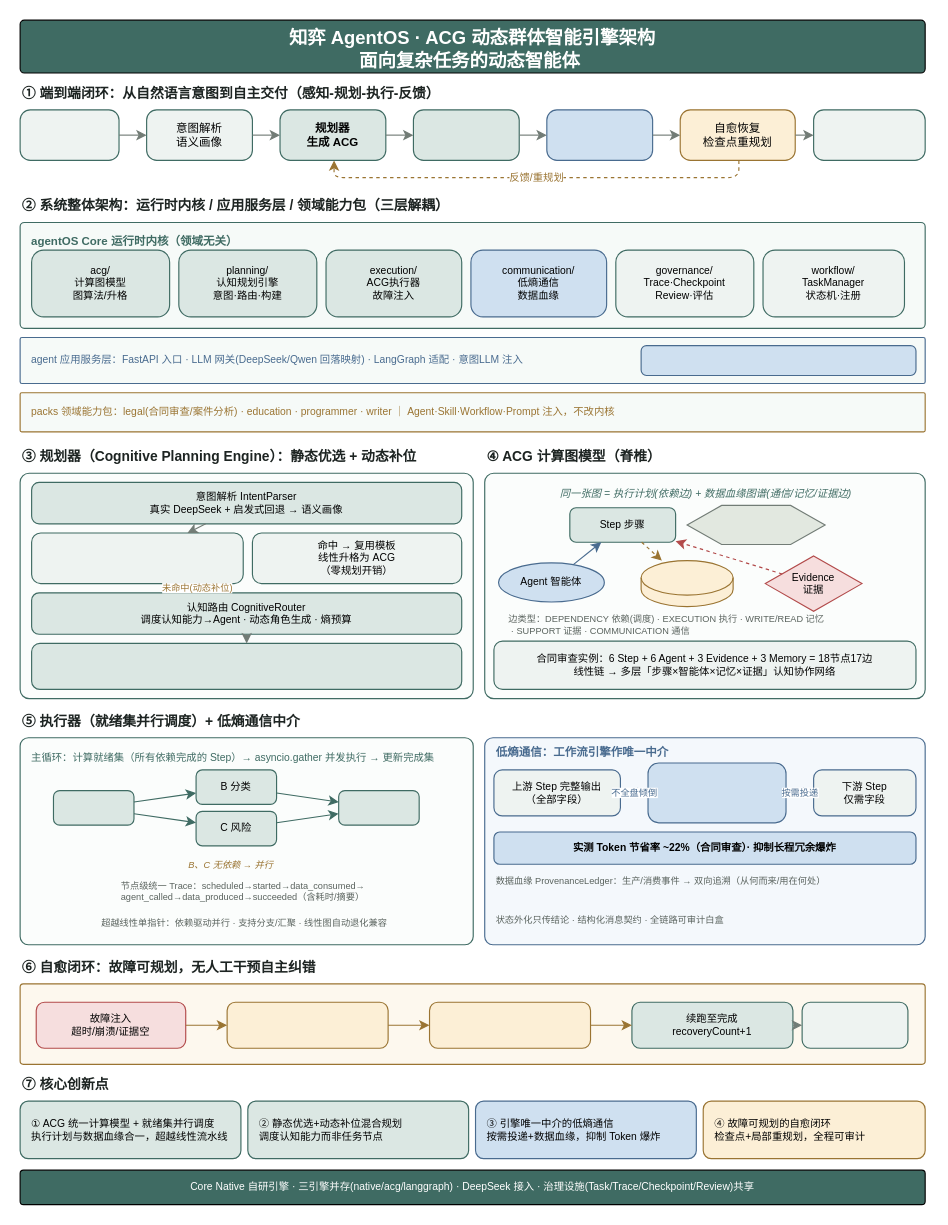
The diagram is 948 pixels wide and 1225 high, and some of its shapes have lost their labels. The box of each missing label's shape, as (x1, y1, x2, y2) in pixels:
A 解析: (52, 789, 134, 825)
ACG 构建器 ACGBuilder 步骤分解 · 赋能节点注入(Memory/Evidence) · 环检测: (30, 642, 462, 689)
ContextAssembler 按 input_spec 精准提取 证据链聚合: (647, 762, 786, 823)
Control 控制 并行/分支/汇聚: (686, 504, 825, 545)
D 汇聚: (338, 789, 419, 825)
Memory 记忆: (640, 559, 733, 607)
三引擎并存：native · acg · langgraph: (640, 344, 916, 375)
交付物 +全链路审计: (812, 109, 925, 160)
低熵通信 按需投递: (546, 109, 653, 160)
局部重规划 复位子图重跑: (428, 1001, 591, 1048)
恢复轨迹 入 Trace 审计: (801, 1001, 908, 1048)
执行器 就绪集并行: (412, 109, 519, 160)
捕获可恢复故障 创建检查点: (226, 1001, 388, 1048)
模板匹配 TemplateMatcher role+task 索引 + 相似度 ≥0.85: (30, 532, 243, 584)
自然语言 意图: (19, 109, 119, 160)
